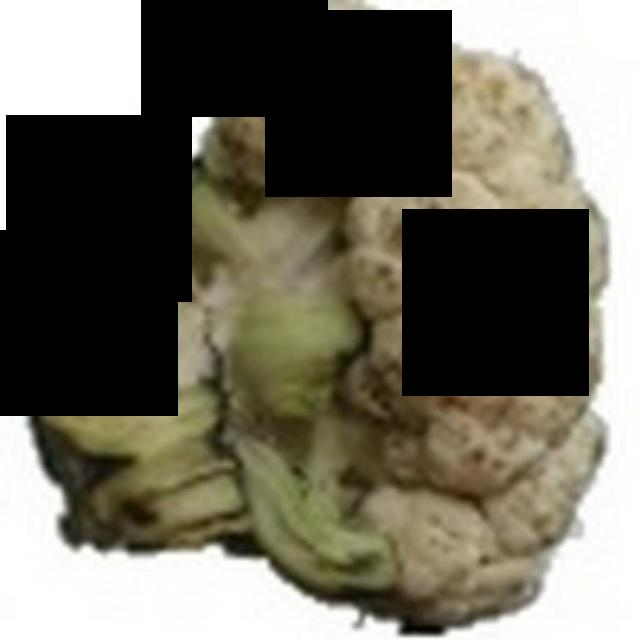cauliflower: (6, 0, 628, 637)
